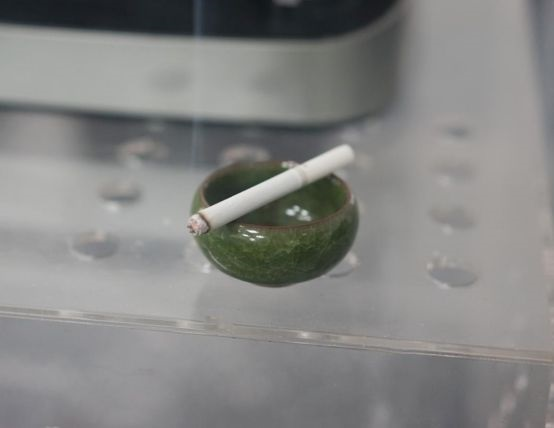yanwu: (188, 4, 208, 202)
